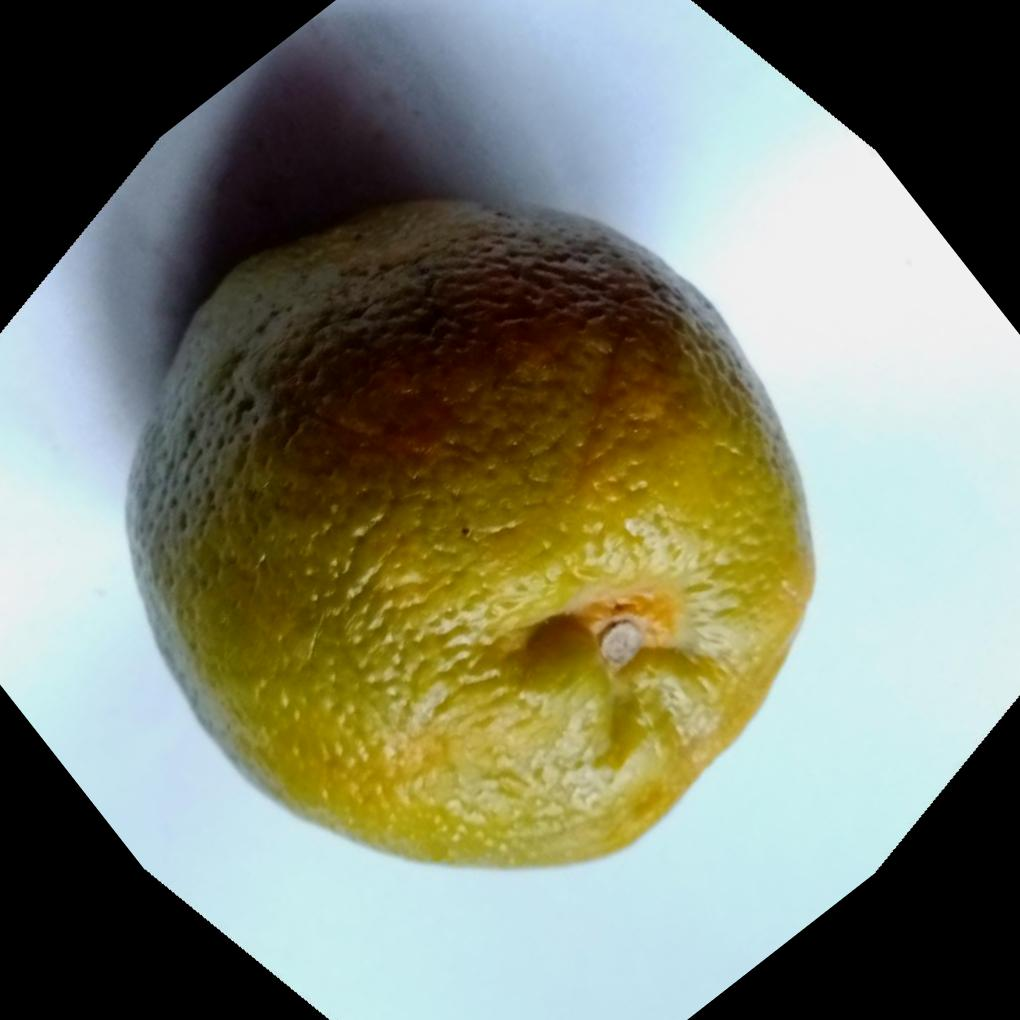FreshGuava: (119, 196, 814, 874)
